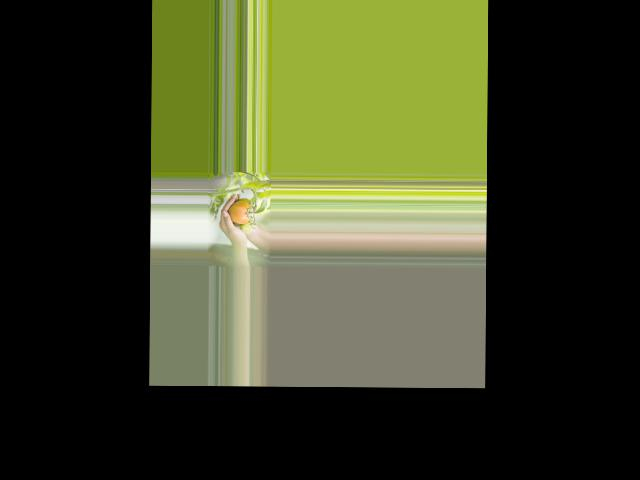tomato: (229, 201, 252, 224)
